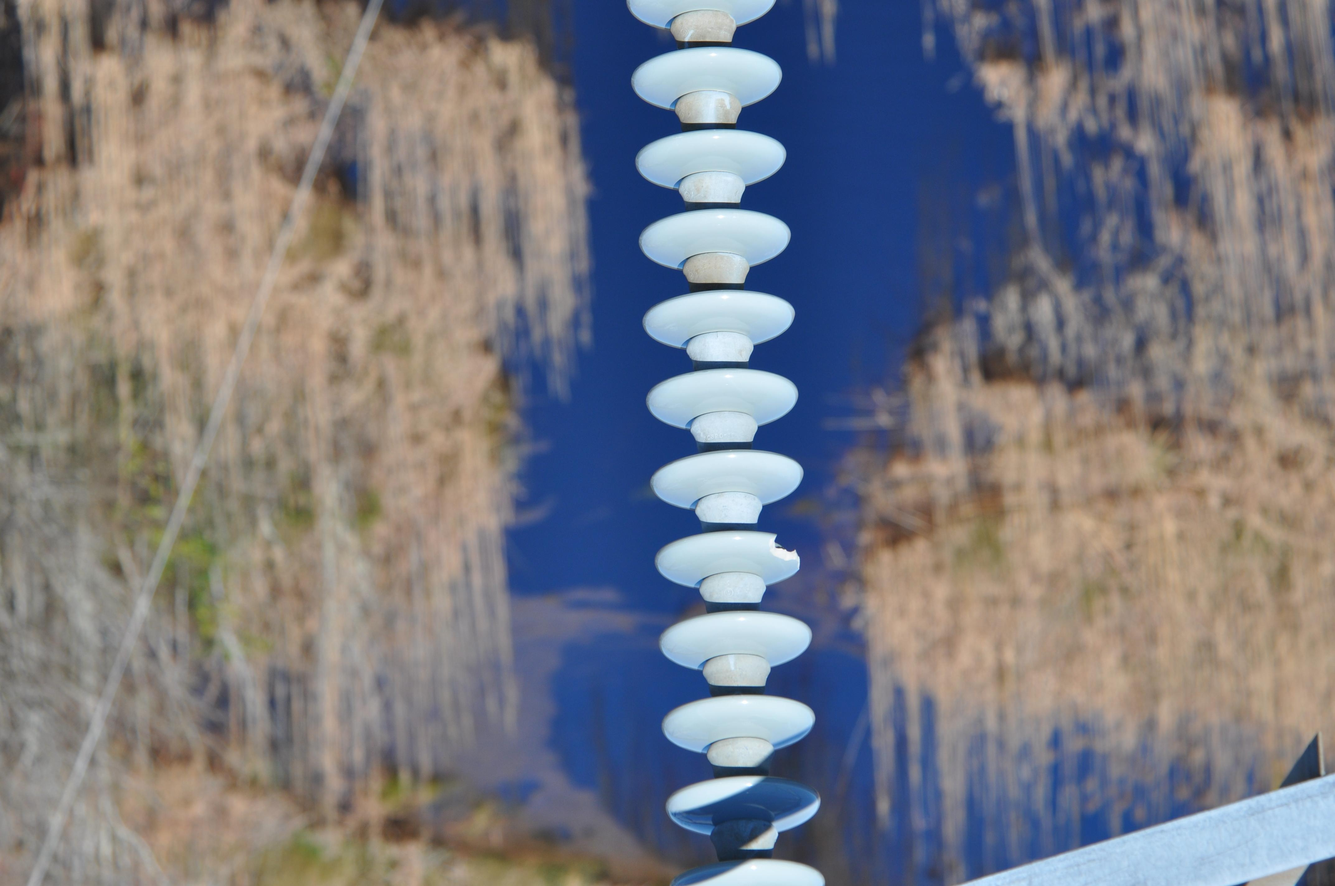damaged: (738, 527, 800, 581)
insulator: (619, 0, 831, 886)
